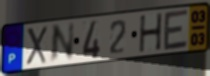2: (108, 19, 128, 56)
4: (81, 19, 103, 60)
E: (162, 8, 190, 53)
H: (139, 11, 164, 55)
N: (48, 21, 77, 66)
X: (25, 25, 49, 67)
